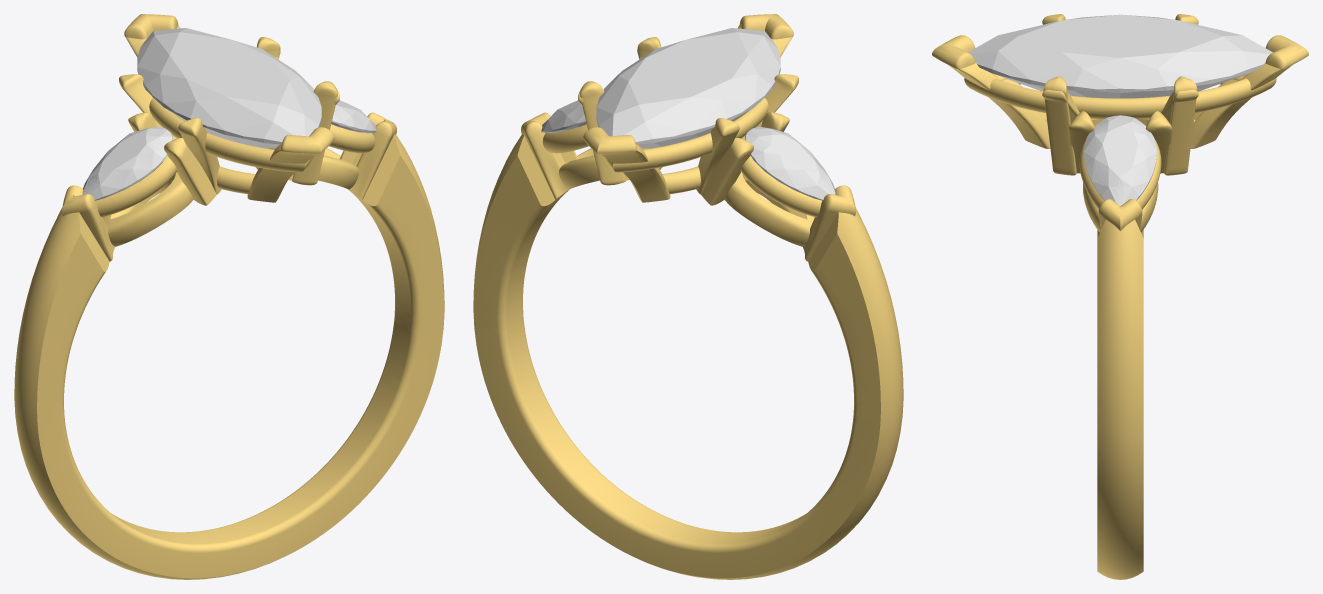
File: JustinClawprongYG_blender.glb
3 renders of one model, left to right at view 1: azimuth 30°, elevation 25°; view 2: azimuth 150°, elevation 25°; view 3: azimuth 270°, elevation 25°, orthographic. The views are drawn at different scales.
Visible parts, largest first — view 1: V5 YG for 3d model, Justin marquise dia for 3d model, NEW Justin dia for 3d model.001, NEW Justin dia for 3d model; view 2: V5 YG for 3d model, Justin marquise dia for 3d model, NEW Justin dia for 3d model.001, NEW Justin dia for 3d model; view 3: V5 YG for 3d model, Justin marquise dia for 3d model, NEW Justin dia for 3d model.
Part boxes in pixels (box(x1,y1,x2,y2)): V5 YG for 3d model: box(14, 14, 444, 579); Justin marquise dia for 3d model: box(137, 28, 321, 148); NEW Justin dia for 3d model.001: box(82, 126, 172, 200); NEW Justin dia for 3d model: box(331, 100, 376, 133); V5 YG for 3d model: box(473, 14, 903, 579); Justin marquise dia for 3d model: box(596, 28, 780, 148); NEW Justin dia for 3d model.001: box(745, 126, 835, 200); NEW Justin dia for 3d model: box(541, 100, 586, 133); V5 YG for 3d model: box(932, 14, 1308, 579); Justin marquise dia for 3d model: box(968, 14, 1272, 98); NEW Justin dia for 3d model: box(1084, 115, 1156, 205).
Size of the model in its own units: 20.72 by 23.65 by 15.53.
